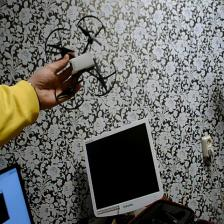drone: (41, 13, 122, 113)
